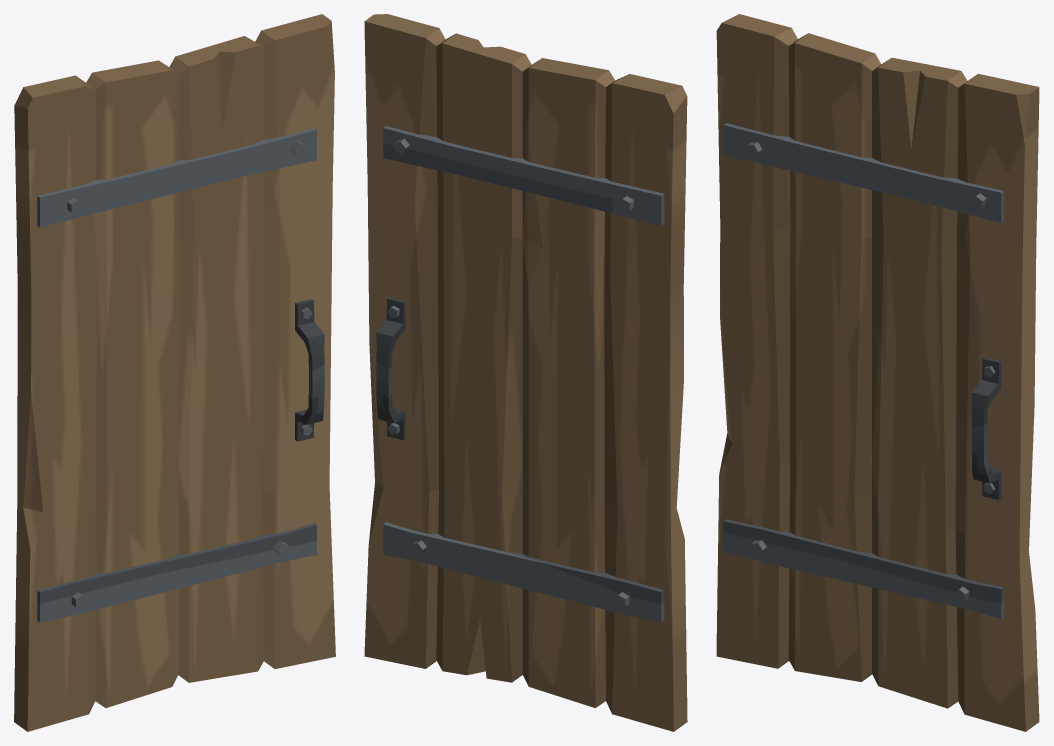
Rendered from SM_Bld_Door_05.fbx.
3 views of the same model, side by side, from view 1: azimuth 30°, elevation 25°; view 2: azimuth 150°, elevation 25°; view 3: azimuth 330°, elevation 25° (orthographic).
Parts seen in each view (by area): view 1: SM_Bld_Door_05; view 2: SM_Bld_Door_05; view 3: SM_Bld_Door_05.
Boxes of the visible parts, <box> form: SM_Bld_Door_05: <box>14,14,335,731</box>; SM_Bld_Door_05: <box>364,14,687,731</box>; SM_Bld_Door_05: <box>716,14,1039,731</box>.
Size of the model in its own units: 100 by 197 by 24.61.
